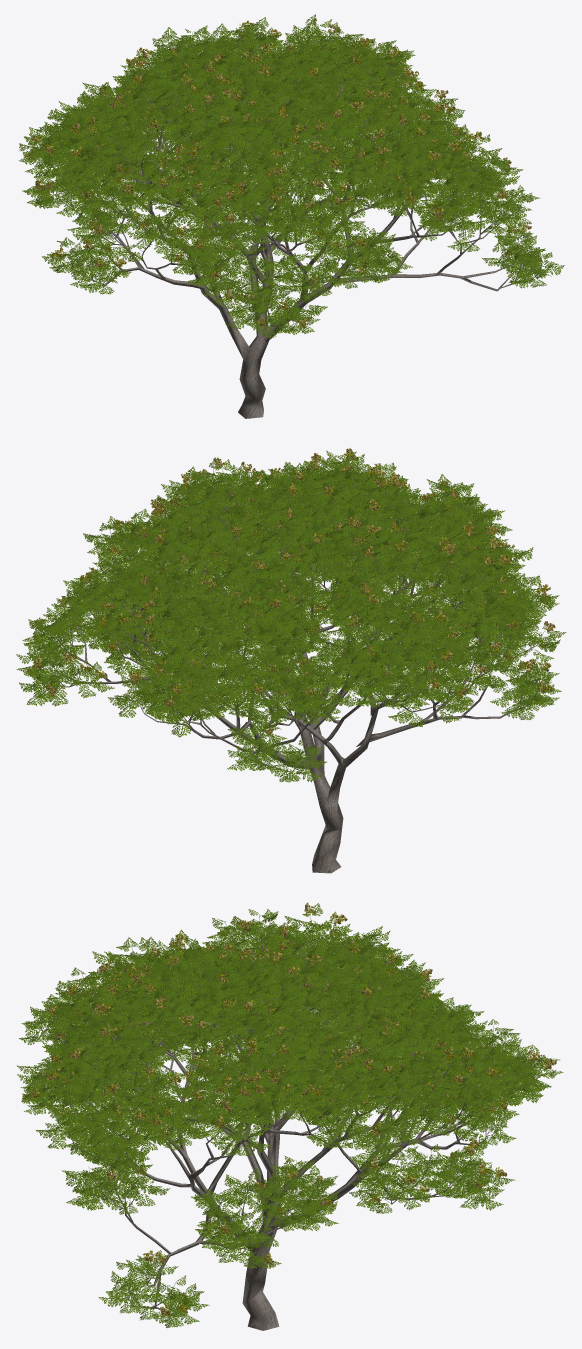
Rendered from Melia azedarach HD_Wild no flower mat 50_LOD2.fbx.
3 views of the same model, one above another, from view 1: azimuth 30°, elevation 25°; view 2: azimuth 150°, elevation 25°; view 3: azimuth 270°, elevation 25° (orthographic). The views are drawn at different scales.
Parts seen in each view (by area): view 1: Melia_azedarach_HD; view 2: Melia_azedarach_HD; view 3: Melia_azedarach_HD.
Part boxes in pixels (box(x1,y1,x2,y2)): Melia_azedarach_HD: box(19, 14, 564, 418); Melia_azedarach_HD: box(16, 448, 566, 873); Melia_azedarach_HD: box(17, 902, 563, 1330).
Size of the model in its own units: 8.71 by 6.41 by 8.34.
